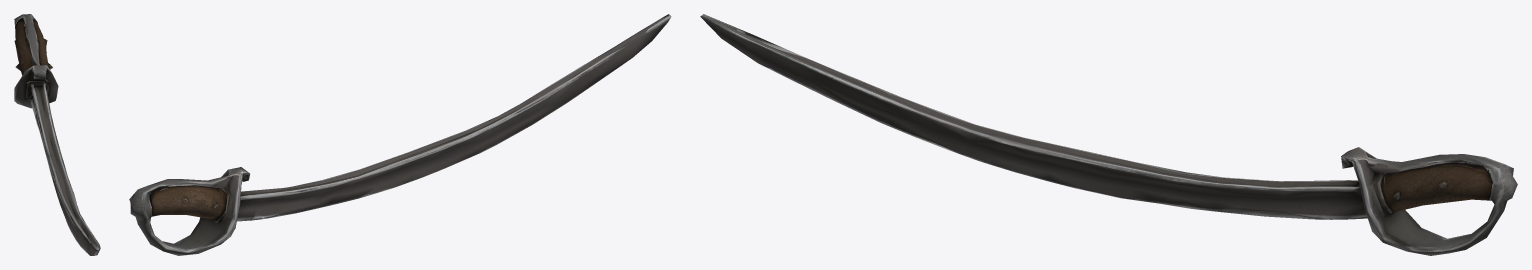
Rendered from cavalry_mix_melee.glb.
3 views of the same model, side by side, from view 1: azimuth 30°, elevation 25°; view 2: azimuth 150°, elevation 25°; view 3: azimuth 270°, elevation 25° (orthographic). The views are drawn at different scales.
Visible parts, largest first — view 1: tripo_node_160062d0-da7c-4c99-a5ac-912222448416; view 2: tripo_node_160062d0-da7c-4c99-a5ac-912222448416; view 3: tripo_node_160062d0-da7c-4c99-a5ac-912222448416.
Boxes of the visible parts, bbox=[...] form: tripo_node_160062d0-da7c-4c99-a5ac-912222448416: bbox=[14, 14, 100, 255]; tripo_node_160062d0-da7c-4c99-a5ac-912222448416: bbox=[129, 14, 671, 255]; tripo_node_160062d0-da7c-4c99-a5ac-912222448416: bbox=[700, 14, 1517, 255].
Bounding box in the file's own units: 0.3748 × 0.1255 × 0.8551.
1 material, 1 textured.
